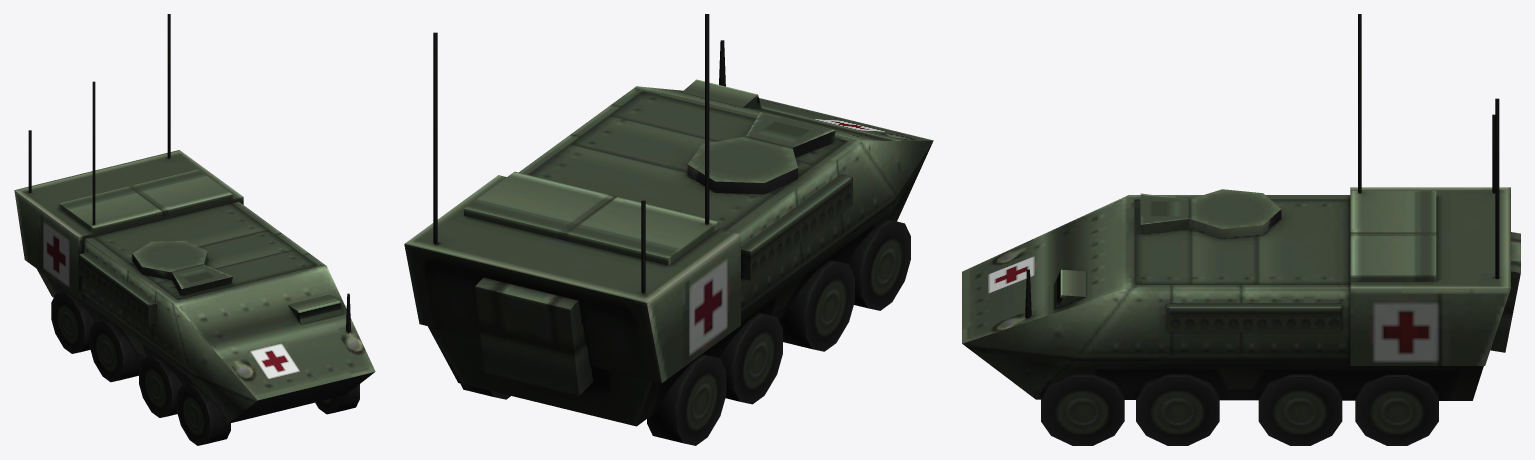
Rendered from Stryker_MED.DAE.
The picture shows the model from 3 angles, left to right: view 1: azimuth 30°, elevation 25°; view 2: azimuth 150°, elevation 25°; view 3: azimuth 270°, elevation 25°; orthographic projection. The views are drawn at different scales.
Parts seen in each view (by area): view 1: _1174_Stryker_MED; view 2: _1174_Stryker_MED; view 3: _1174_Stryker_MED.
Boxes of the visible parts, x1,y1,x2,y2 form: _1174_Stryker_MED: (14, 14, 375, 445); _1174_Stryker_MED: (404, 14, 933, 445); _1174_Stryker_MED: (962, 14, 1520, 445).
Bounding box in the file's own units: 112 × 173 × 253.
Materials: 1 (1 with a texture image).
